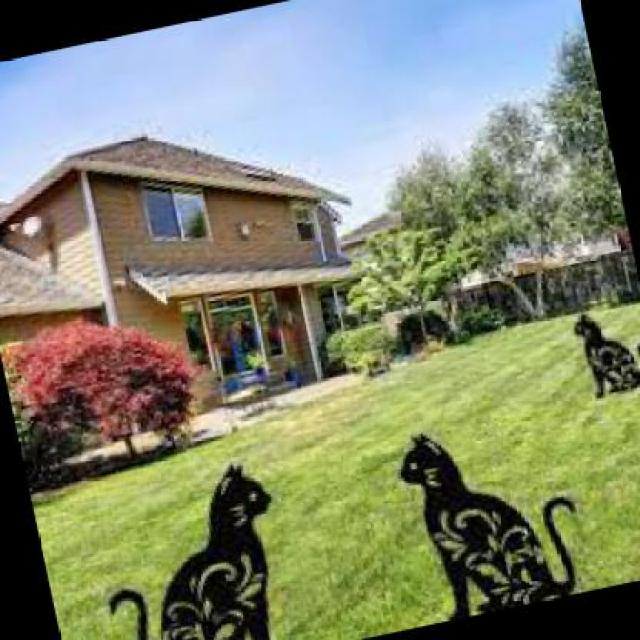animals: (374, 388, 609, 624), (77, 442, 318, 638), (564, 298, 638, 417)
